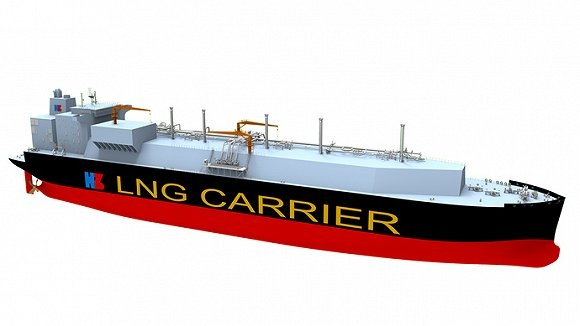Cargoship: (14, 78, 566, 266)
